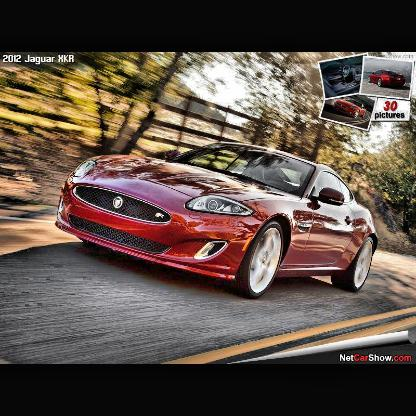Jaguar XK XKR 2012: (55, 140, 381, 300)
